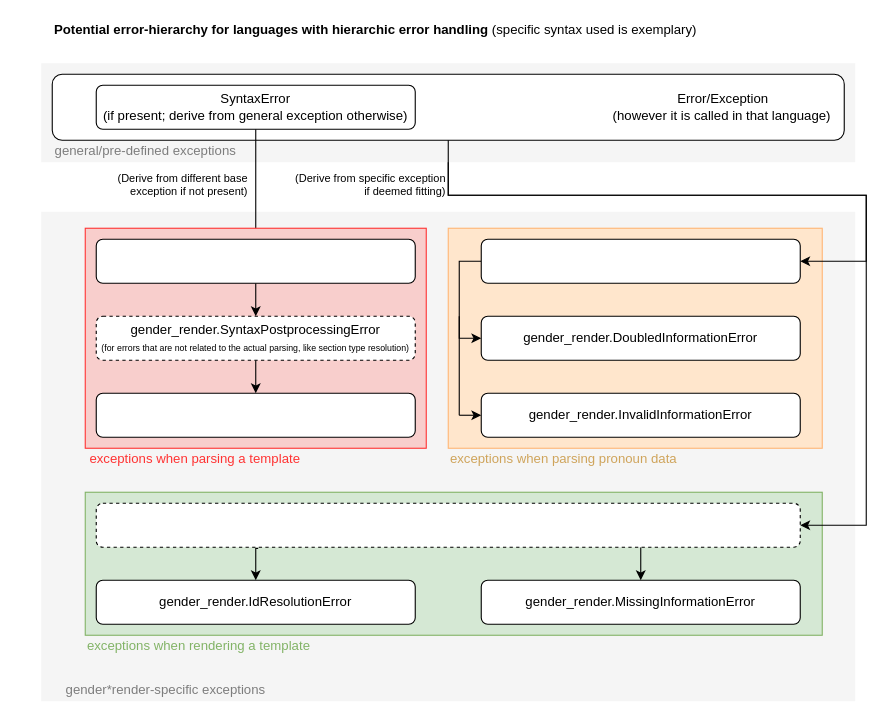
Some shapes in this 894 by 719 pixel diagram are drawn without their labels. Each missing label, with the centre of its shape:
gender_render.InvalidCapitalizationError: (x=255, y=414)
gender_render.InvalidPDError: (x=640, y=260)
gender_render.RenderingError (for errors that occur during rendering): (x=447, y=524)
gender_render.SyntaxError: (x=255, y=260)
